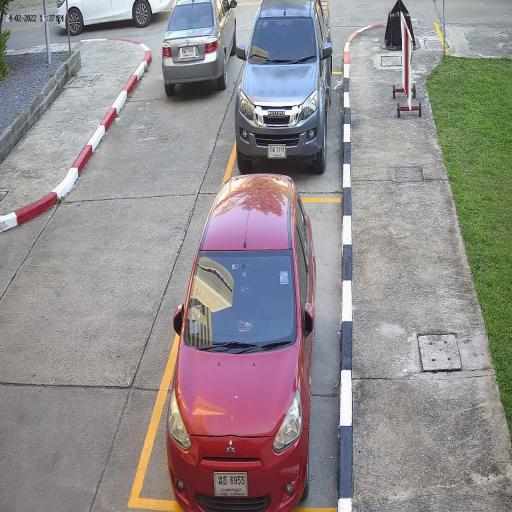car: (165, 170, 318, 512), (233, 0, 334, 176), (160, 0, 238, 100)
